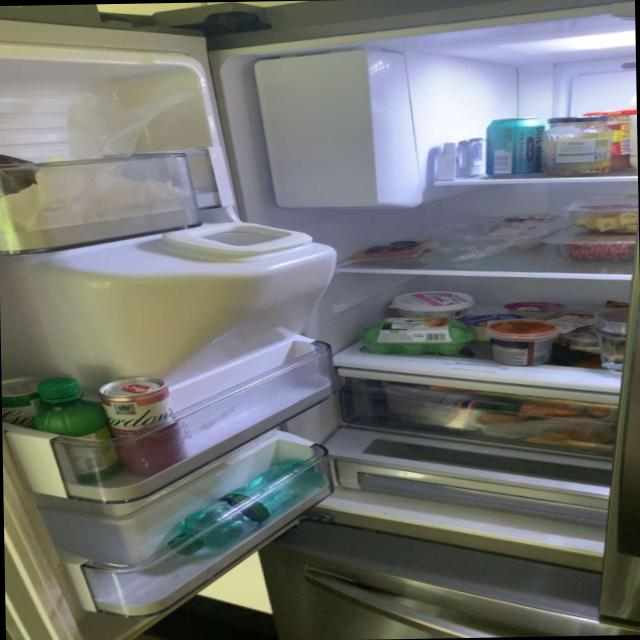Huevos: (361, 315, 477, 356)
Yogur: (388, 288, 467, 318)
Zanahoria: (457, 390, 589, 420)
